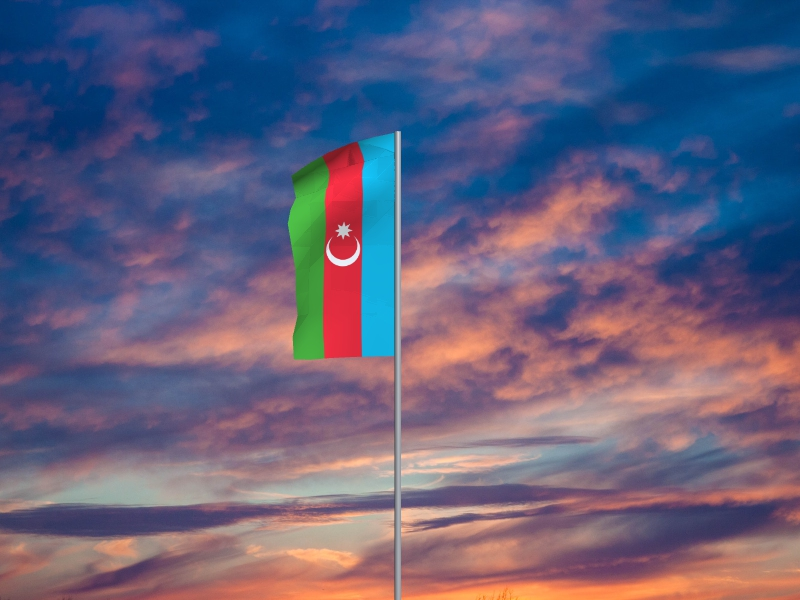az: (287, 133, 395, 362)
